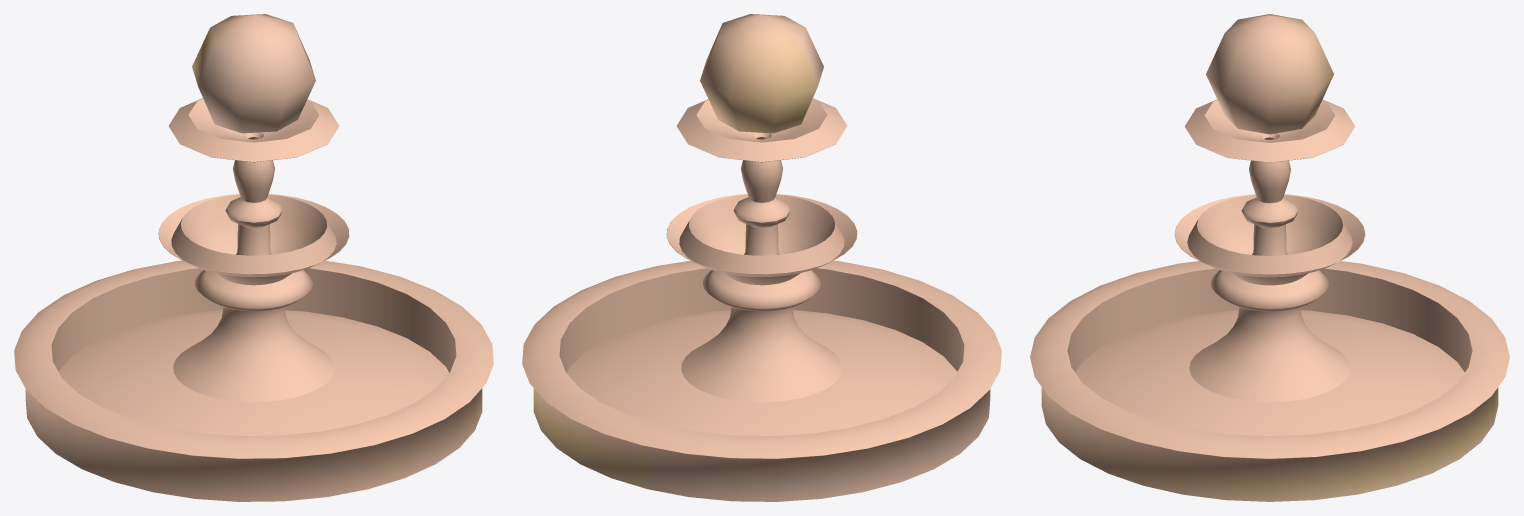
File: Fountain.fbx
3 renders of one model, left to right at view 1: azimuth 30°, elevation 25°; view 2: azimuth 150°, elevation 25°; view 3: azimuth 270°, elevation 25°, orthographic.
Parts seen in each view (by area): view 1: Fountain; view 2: Fountain; view 3: Fountain.
Part boxes in pixels (bbox=[...]): Fountain: bbox=[14, 14, 493, 501]; Fountain: bbox=[522, 14, 1001, 501]; Fountain: bbox=[1030, 14, 1509, 501].
Size of the model in its own units: 748 by 670 by 748.
Materials: 1 (1 with a texture image).
